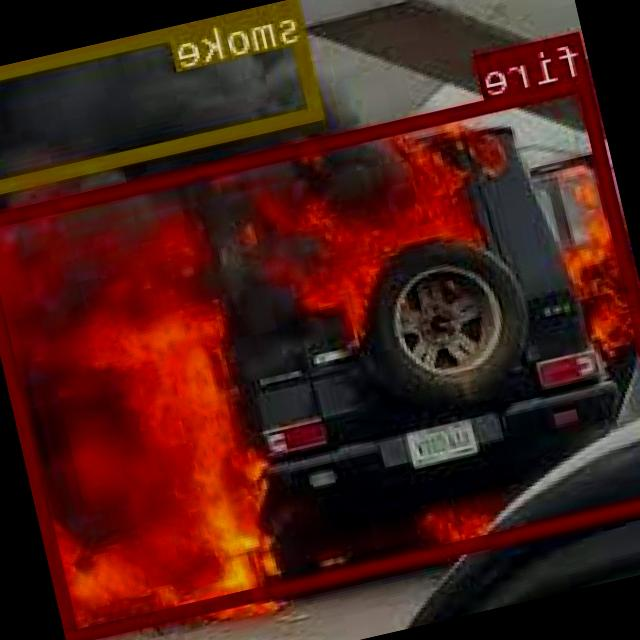fire: (0, 72, 640, 638)
smoke: (0, 0, 324, 194)
